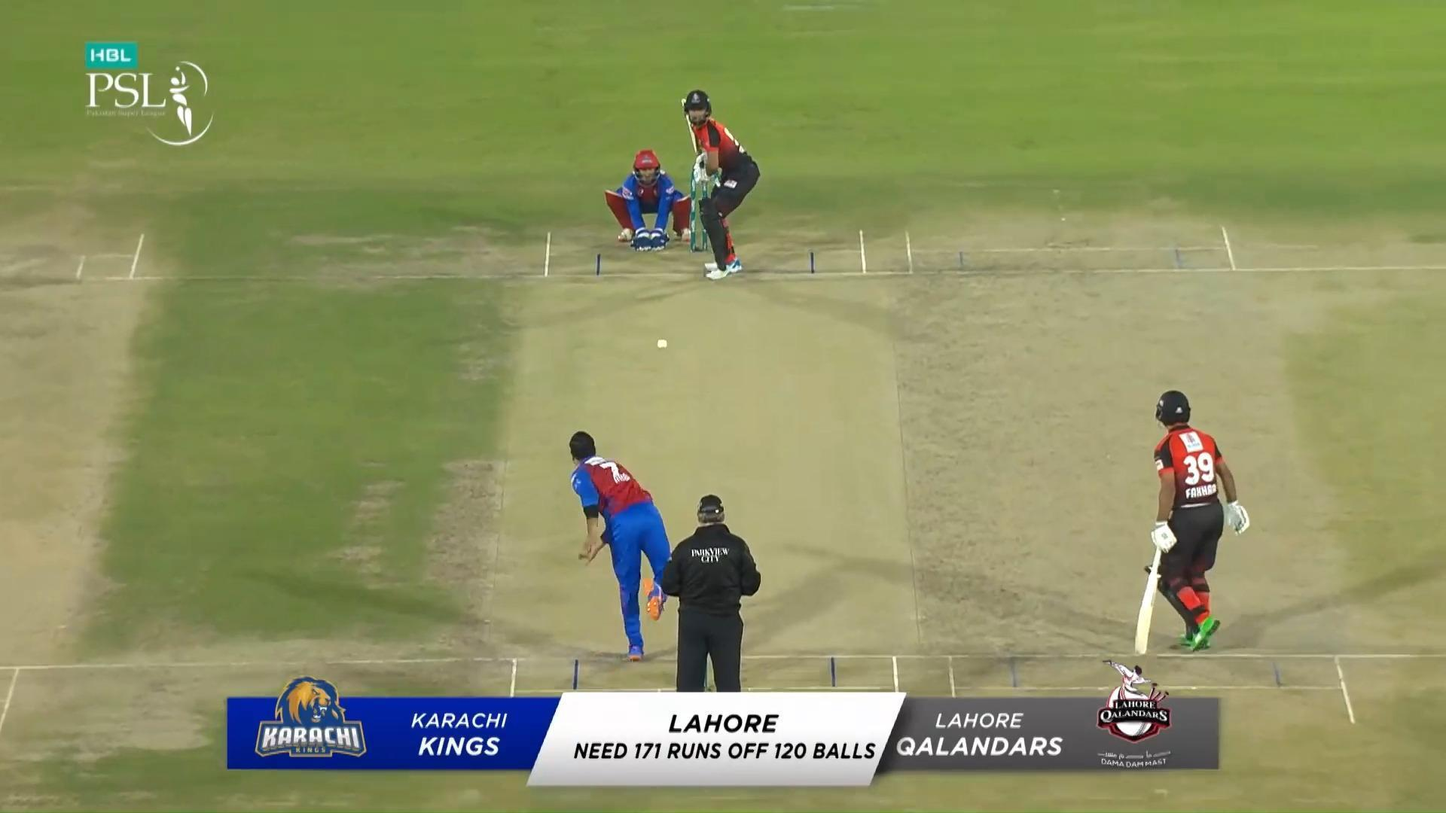BM 1: (682, 90, 759, 281)
BO: (570, 430, 671, 660)
